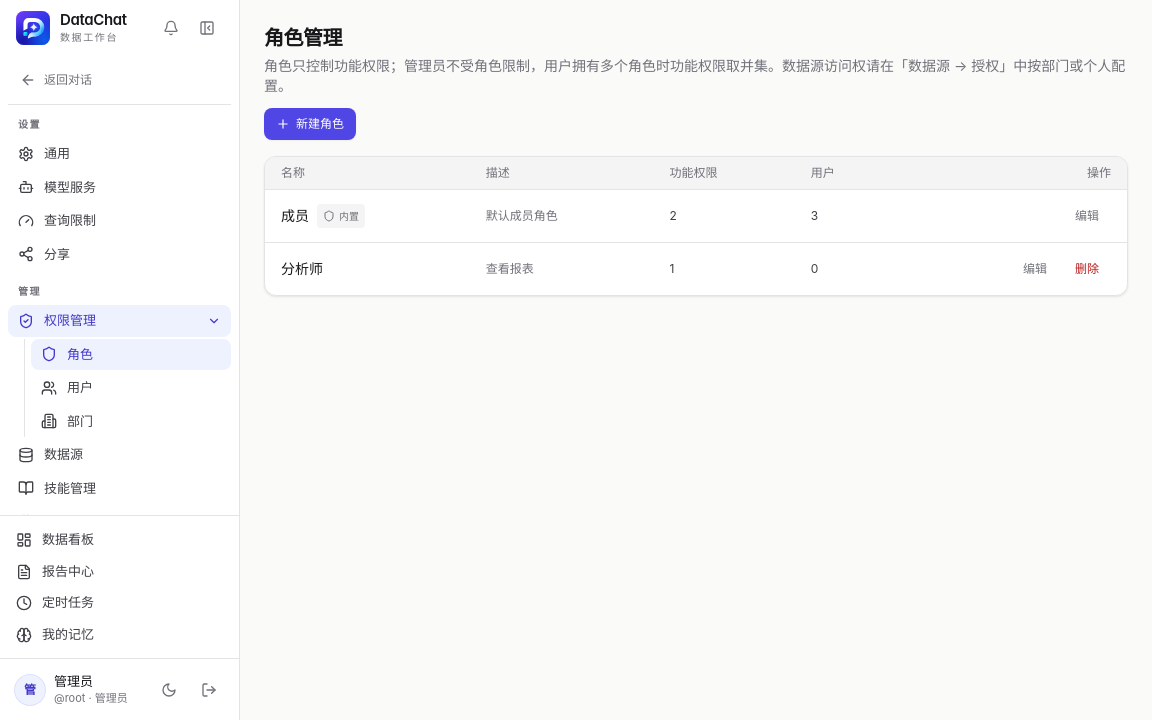
Test: RolesPage › never offers system permissions
Check: the text "成员" is shown, box [281,206,309,226]
Click the button "新建角色": x=310, y=124 [264,108,356,140]
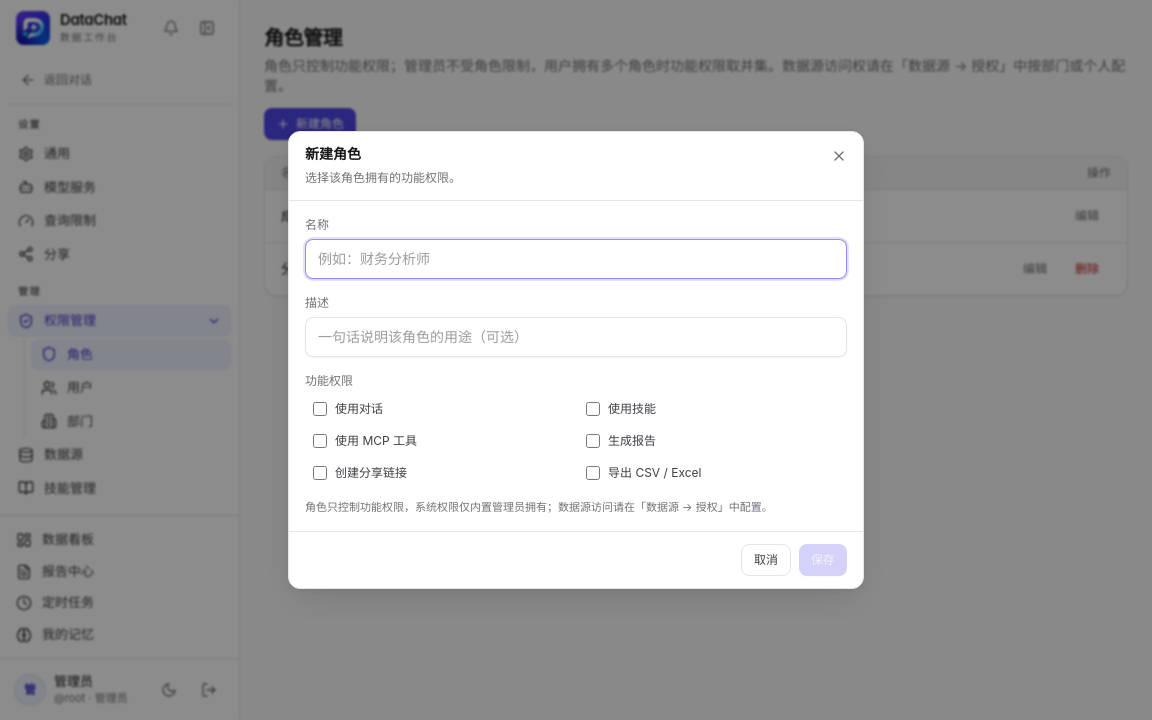
Check: the checkbox labelled "使用对话" is shown, box [313,402,327,416]
